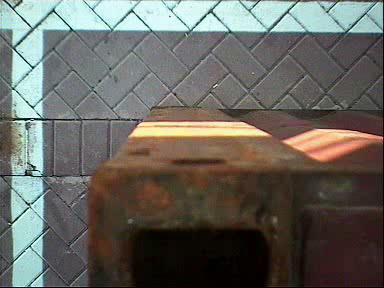groundmarker_2: (82, 24, 242, 133)
